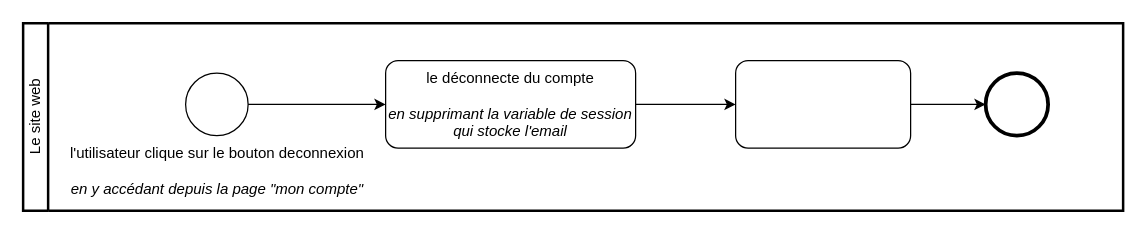
Image size: 1145x233. Some labels were removed from this diagram. Each missing label, with the box of its shape:
l'utilisateur est deconnecté: (984, 72, 1048, 136)
rediriger vers l'accueil: (734, 59, 911, 148)
